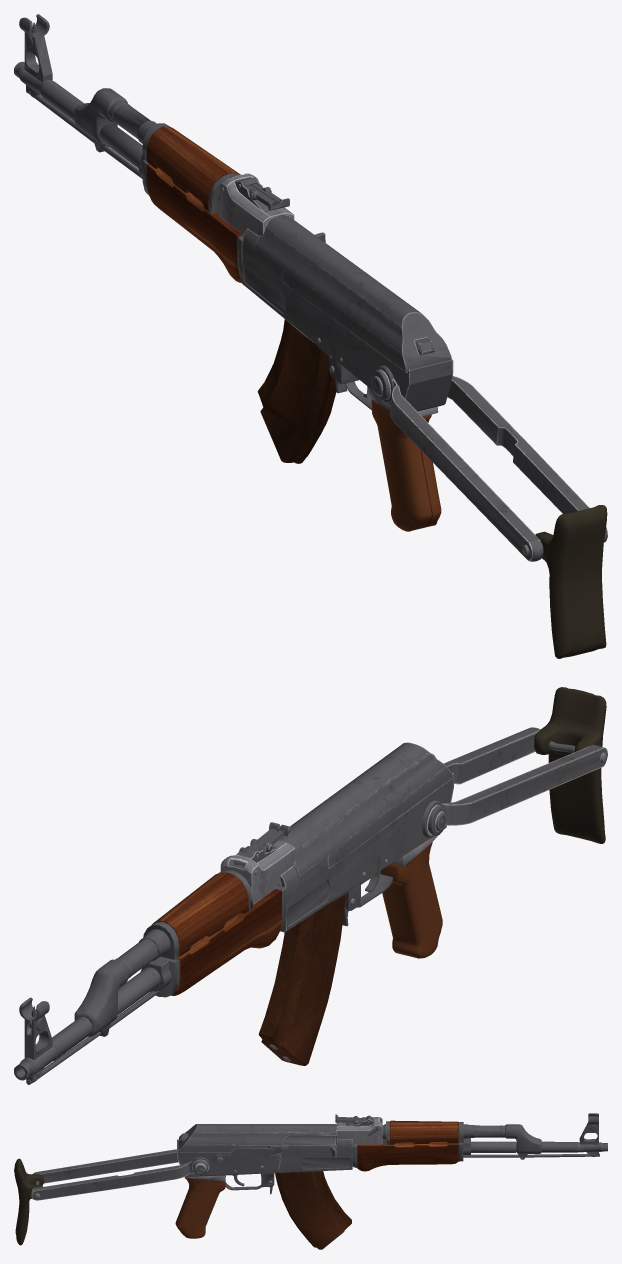
The picture shows the model from 3 angles, top to bottom: view 1: azimuth 30°, elevation 25°; view 2: azimuth 150°, elevation 25°; view 3: azimuth 270°, elevation 25°; orthographic projection. The views are drawn at different scales.
Visible parts, largest first — view 1: ak47_body, mag; view 2: ak47_body, mag; view 3: ak47_body, mag.
Part boxes in pixels (left/top/right/bottom): ak47_body: left=14, top=14, right=607, bottom=658; mag: left=257, top=319, right=336, bottom=463; ak47_body: left=14, top=687, right=607, bottom=1084; mag: left=258, top=894, right=345, bottom=1065; ak47_body: left=14, top=1113, right=607, bottom=1245; mag: left=275, top=1171, right=351, bottom=1249.
Size of the model in its own units: 0.0761 by 0.2143 by 0.874.
Materials: 11 (11 with a texture image).
